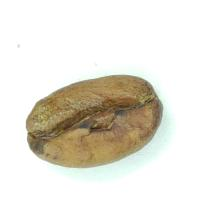NG: (30, 93, 155, 152)
